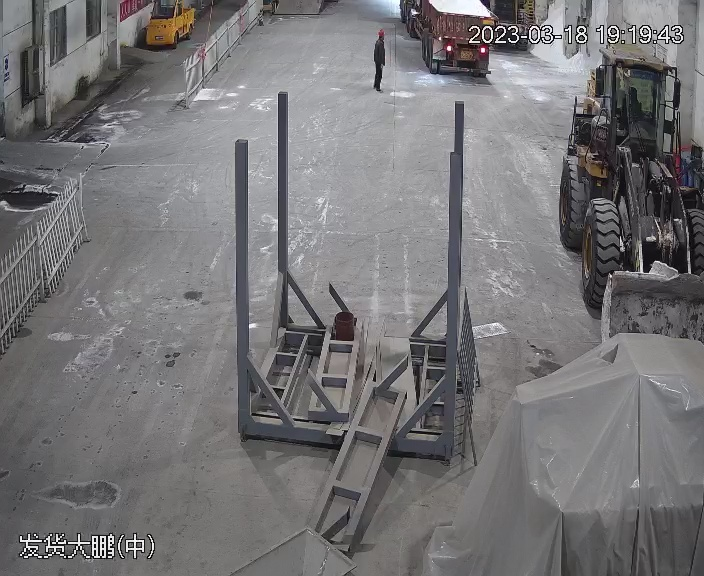head: (373, 27, 387, 49)
helmet: (377, 27, 386, 36)
people: (370, 26, 388, 92)
truck: (401, 0, 497, 79)
